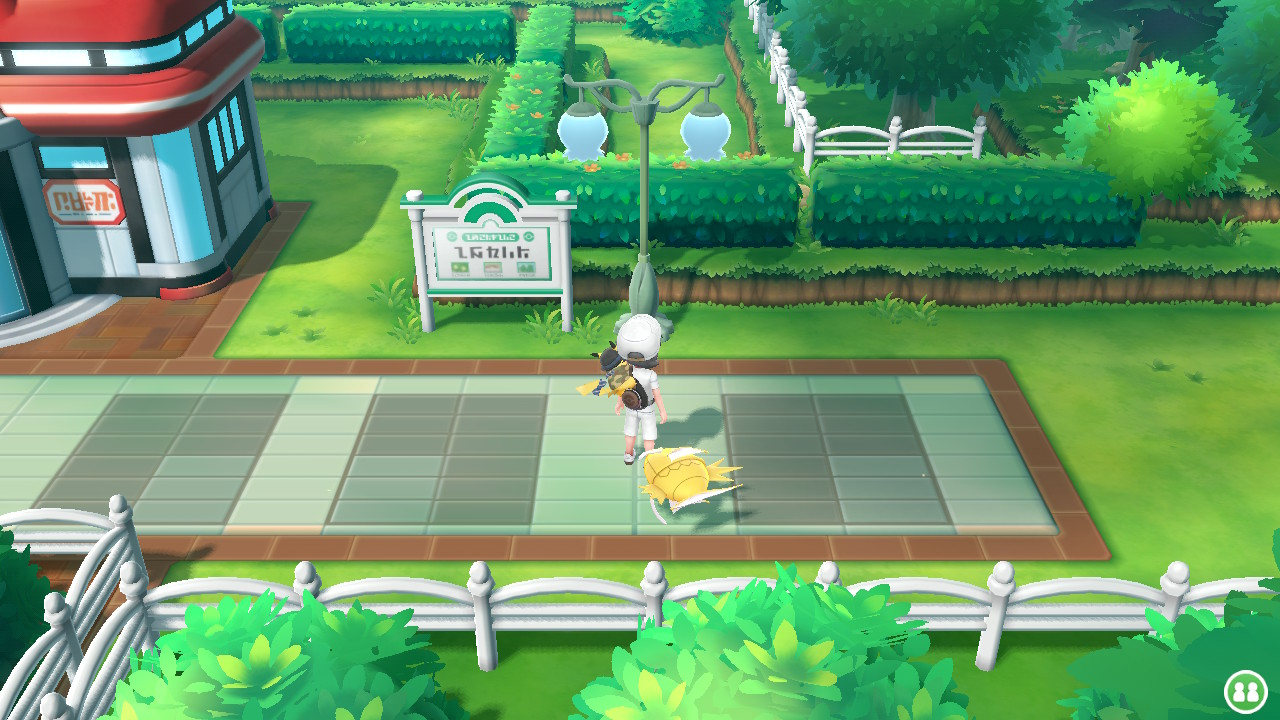Golden: (640, 449, 741, 514)
